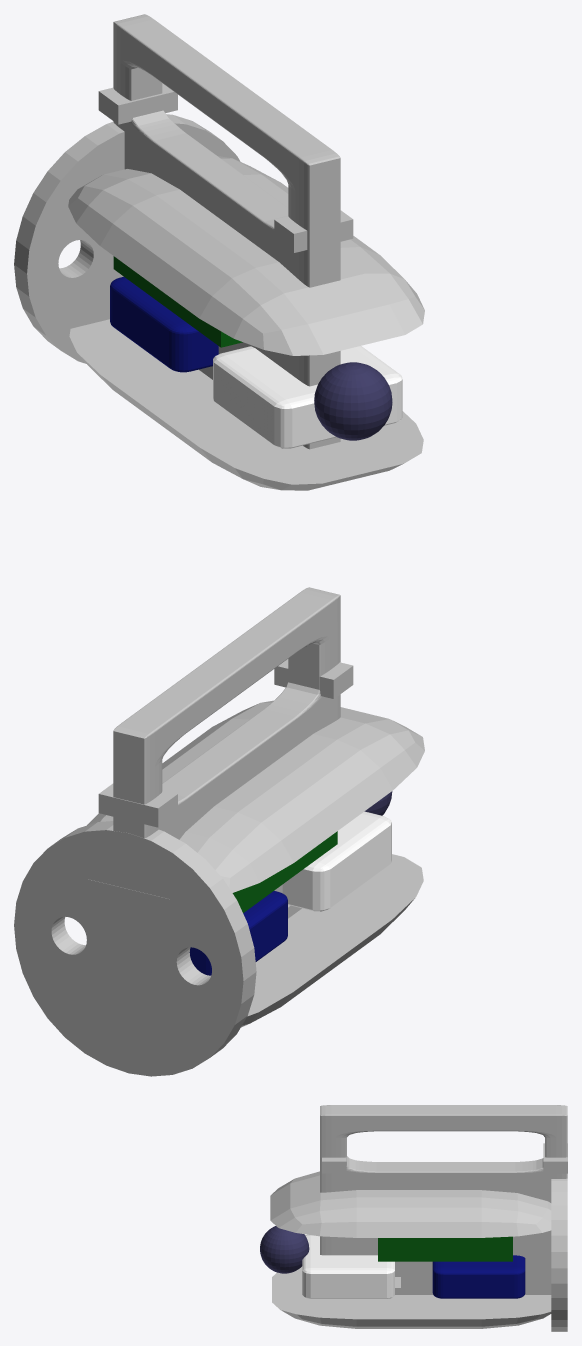
The model's file is Elephant_UBA_video.glb.
3 renders of one model, top to bottom at view 1: azimuth 30°, elevation 25°; view 2: azimuth 150°, elevation 25°; view 3: azimuth 270°, elevation 25°, orthographic. The views are drawn at different scales.
Parts seen in each view (by area): view 1: Sphere; view 2: Sphere; view 3: Sphere.
Part boxes in pixels (x1,y1,x2,y2): Sphere: (14, 14, 424, 490); Sphere: (14, 587, 424, 1076); Sphere: (260, 1105, 567, 1331).
Size of the model in its own units: 13.5 by 19.11 by 44.77.
